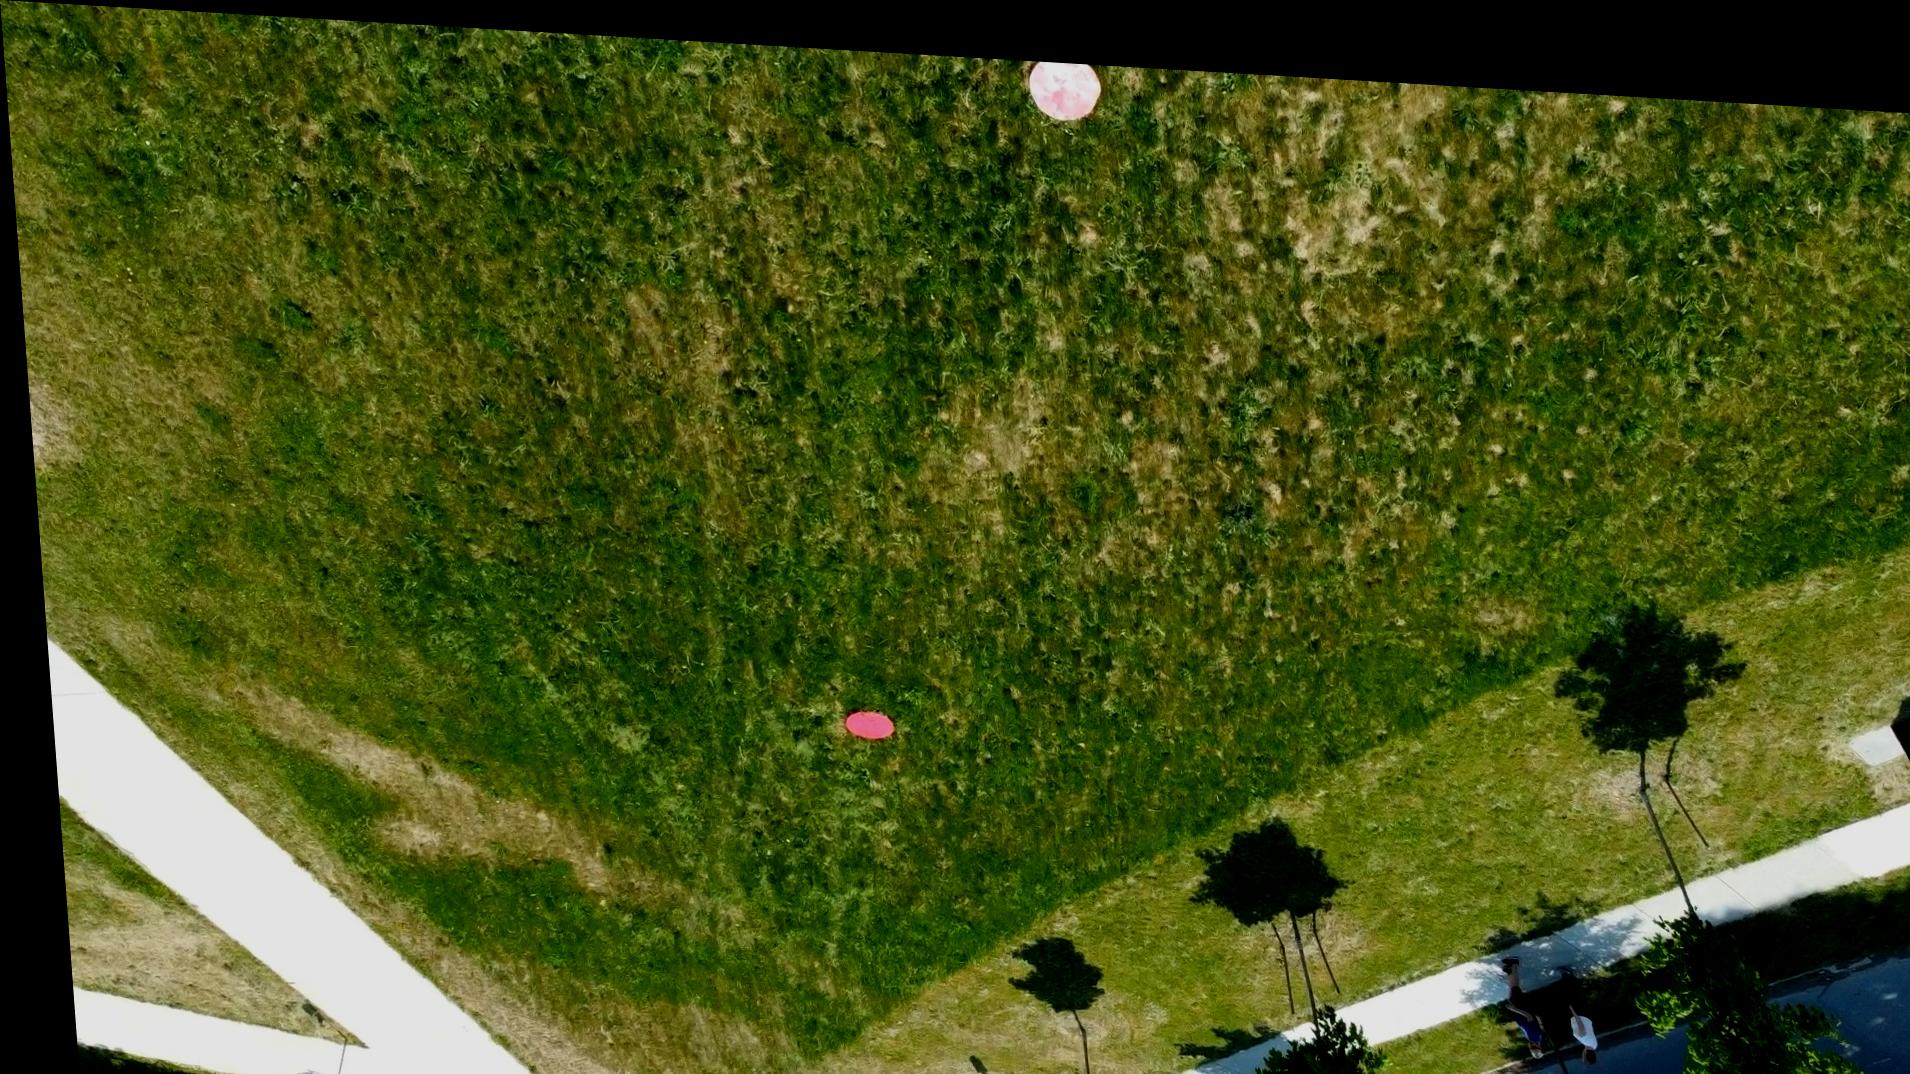Red: (1022, 47, 1107, 113), (832, 698, 887, 730)
